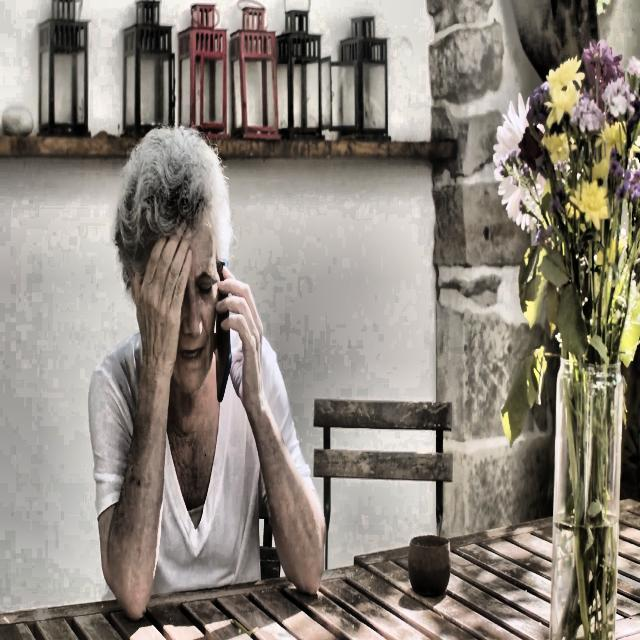Phone: (212, 255, 233, 405)
